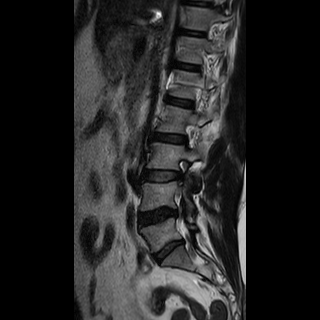RFS0: (179, 120, 201, 154)
